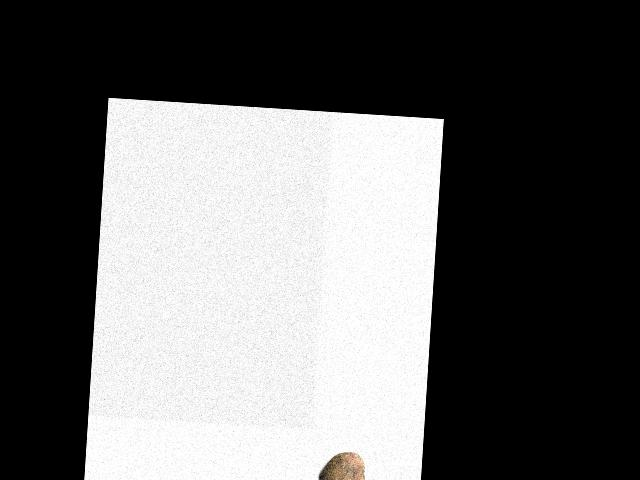beet: (317, 449, 365, 480)
